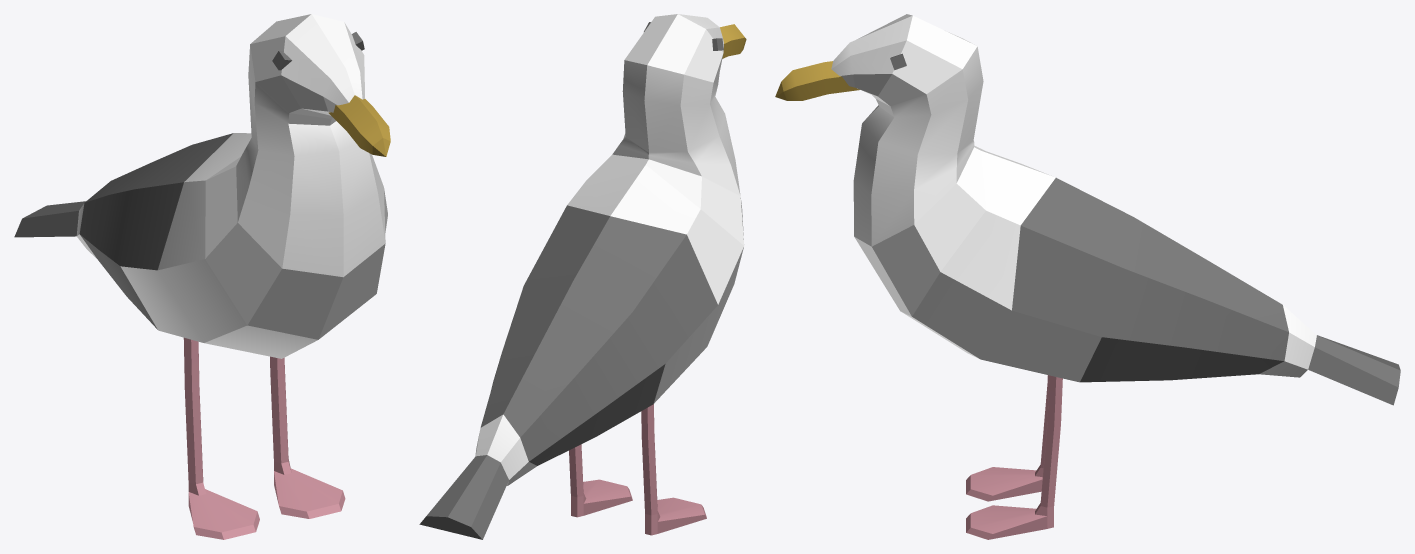
File: mouette_posee.glb
The picture shows the model from 3 angles, left to right: view 1: azimuth 30°, elevation 25°; view 2: azimuth 150°, elevation 25°; view 3: azimuth 270°, elevation 25°; orthographic projection. The views are drawn at different scales.
Visible parts, largest first — view 1: Geo_Seagull; view 2: Geo_Seagull; view 3: Geo_Seagull.
Boxes of the visible parts, x1,y1,x2,y2 form: Geo_Seagull: (14,14,390,539); Geo_Seagull: (419,14,746,539); Geo_Seagull: (775,14,1400,539).
Size of the model in its own units: 22.91 by 58.2 by 67.23.
1 material, 1 textured.
